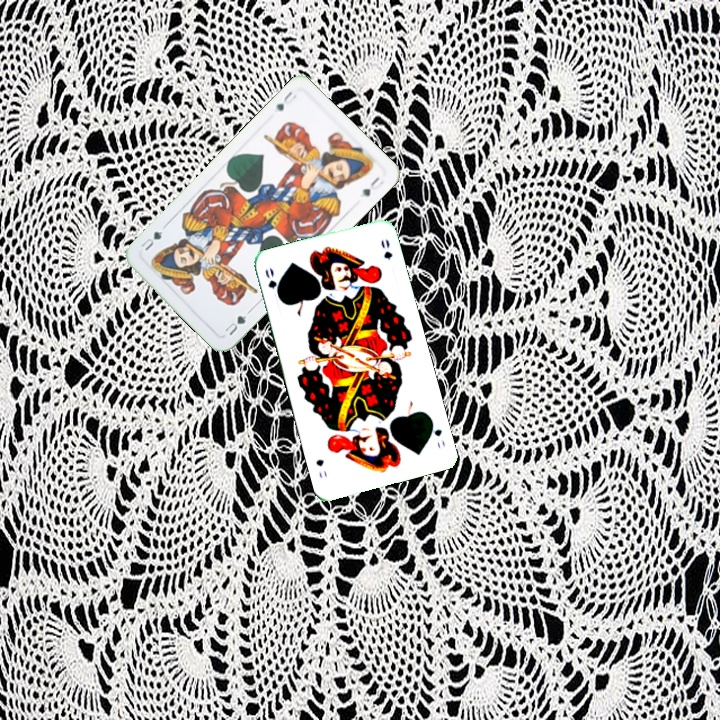GO: (261, 264, 284, 303), (426, 415, 448, 451)
GU: (221, 311, 249, 338), (271, 87, 299, 113)
